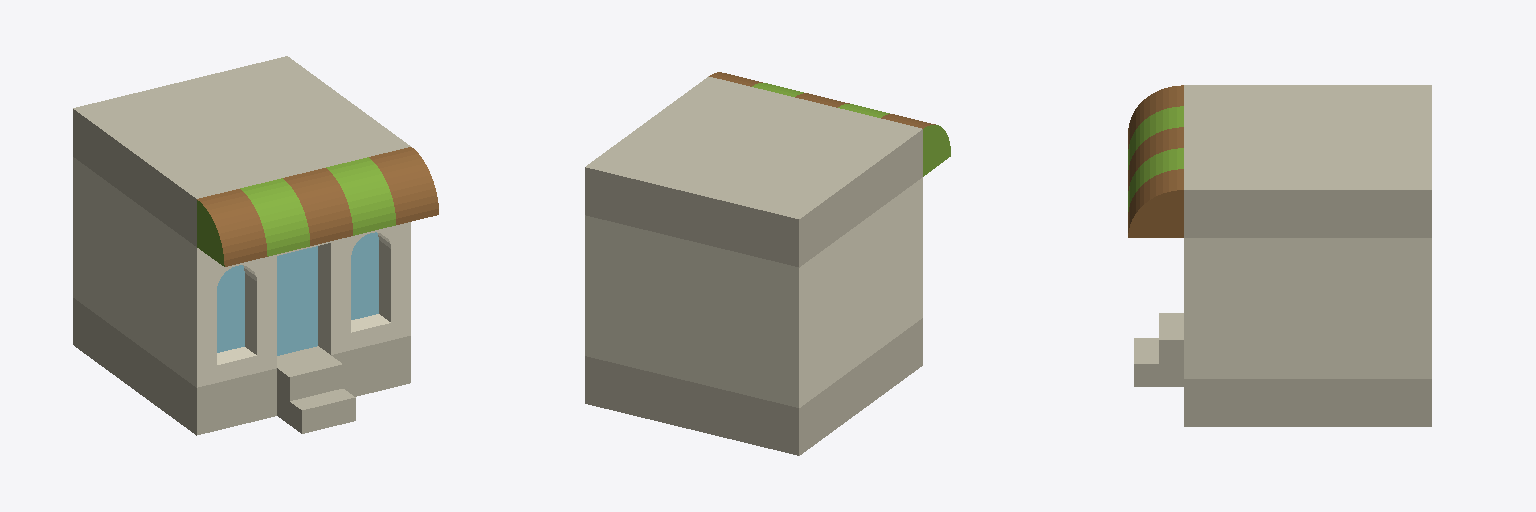
The model's file is houseGround4.obj.
3 renders of one model, left to right at view 1: azimuth 30°, elevation 25°; view 2: azimuth 150°, elevation 25°; view 3: azimuth 270°, elevation 25°, orthographic.
Visible parts, largest first — view 1: Mesh1_Group1_Model.001; view 2: Mesh1_Group1_Model.001; view 3: Mesh1_Group1_Model.001.
Boxes of the visible parts, x1,y1,x2,y2 form: Mesh1_Group1_Model.001: [73, 56, 438, 435]; Mesh1_Group1_Model.001: [585, 72, 950, 455]; Mesh1_Group1_Model.001: [1128, 85, 1431, 426].
Bounding box in the file's own units: 1 × 1.05 × 1.23.